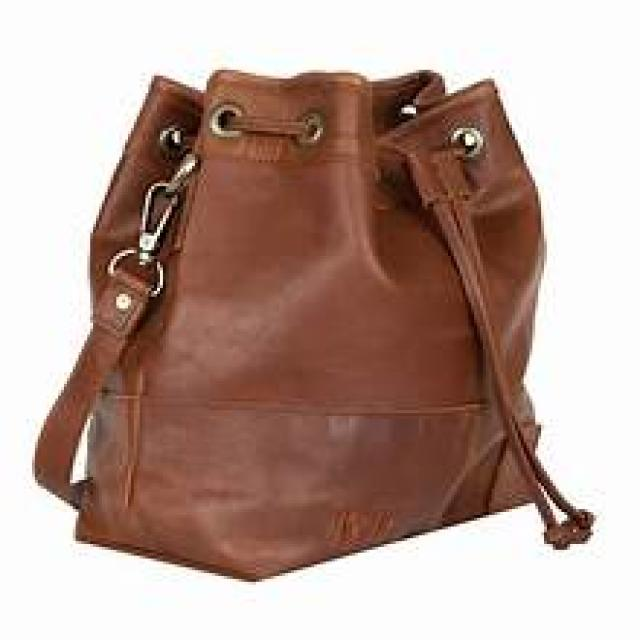backpack: (33, 65, 594, 583)
